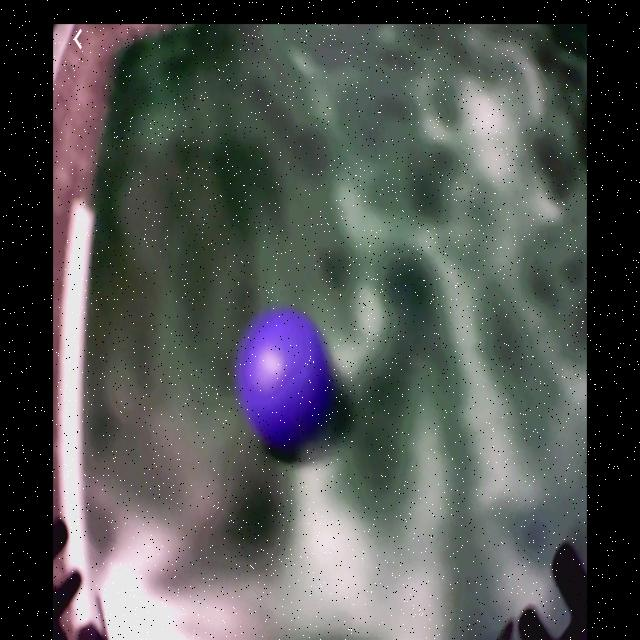ball: (237, 310, 329, 449)
